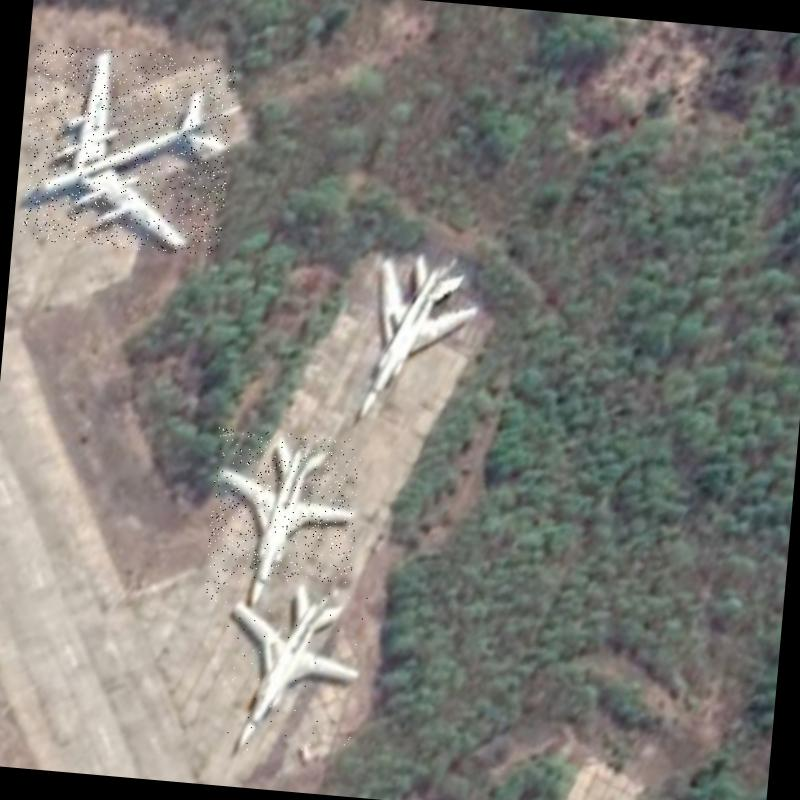A12: (204, 428, 364, 615), (213, 576, 372, 764), (353, 245, 484, 432)
A17: (20, 43, 237, 257)
